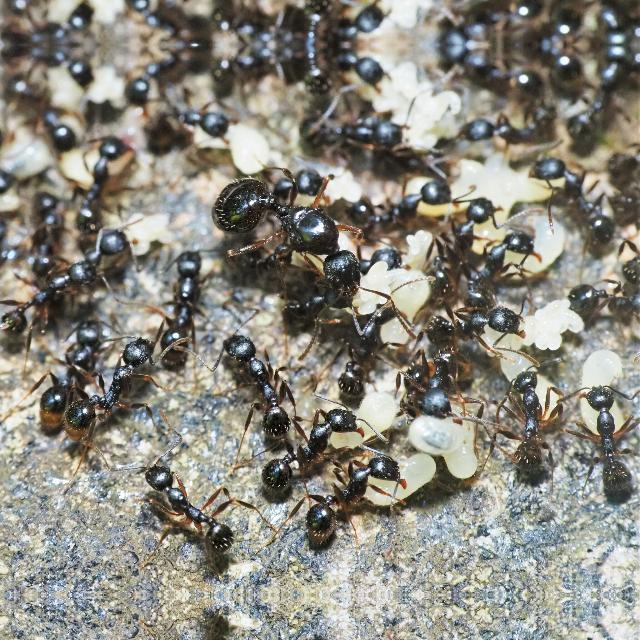Apheanogaster: (122, 450, 248, 564), (202, 171, 350, 259), (296, 447, 422, 549), (248, 396, 366, 500), (210, 321, 304, 445), (25, 306, 117, 422), (489, 354, 571, 484), (394, 302, 474, 430), (524, 144, 626, 244), (568, 367, 640, 499), (0, 252, 104, 340), (270, 244, 372, 332), (67, 332, 146, 444), (321, 294, 401, 404), (146, 237, 217, 357), (62, 125, 138, 233), (342, 168, 460, 236), (127, 82, 246, 148), (451, 220, 545, 302), (0, 68, 86, 154), (560, 45, 636, 141), (53, 218, 141, 300), (296, 101, 412, 157), (116, 44, 222, 104), (417, 295, 538, 347), (429, 44, 549, 96), (452, 100, 560, 152), (429, 0, 549, 44), (116, 0, 222, 44), (202, 44, 312, 86), (202, 2, 312, 44), (23, 185, 71, 279), (0, 1, 102, 44), (0, 44, 102, 86), (560, 272, 638, 324), (301, 44, 393, 88), (301, 0, 393, 44), (245, 162, 327, 210), (560, 0, 636, 42), (0, 157, 26, 257), (0, 0, 86, 20)
